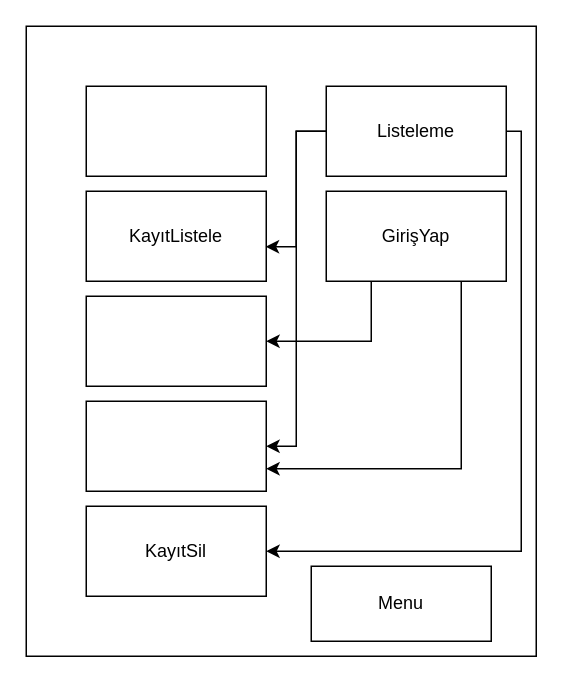
This 563x683 diagram has some shape labels left out. Each missing label, with the box of its shape:
DosyaAc: (85, 85, 266, 176)
KayıtDüzelt: (85, 400, 266, 491)
KayıtEkle: (85, 295, 266, 386)
